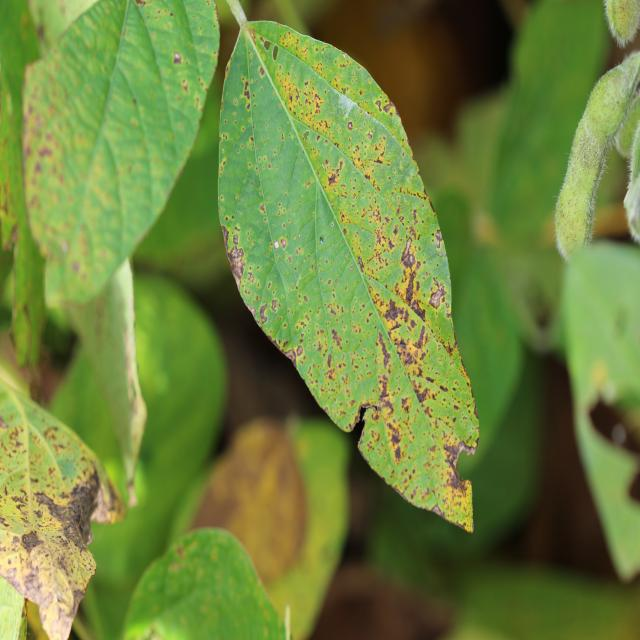Bacterial_Blight: (246, 453, 300, 563), (29, 93, 76, 197), (8, 539, 73, 612), (393, 225, 437, 321), (274, 61, 324, 127), (432, 463, 473, 530), (389, 186, 439, 240), (38, 424, 82, 483), (342, 134, 387, 183), (0, 423, 27, 463), (228, 242, 246, 287), (323, 157, 344, 190), (386, 421, 403, 459), (20, 530, 44, 554), (377, 335, 392, 371), (331, 328, 343, 348), (259, 304, 268, 324), (242, 79, 250, 101), (181, 79, 188, 92), (296, 345, 303, 356), (280, 238, 287, 248), (375, 100, 381, 111)
Soybean: (218, 21, 479, 530), (23, 0, 219, 306), (0, 380, 125, 638), (124, 528, 289, 640)
